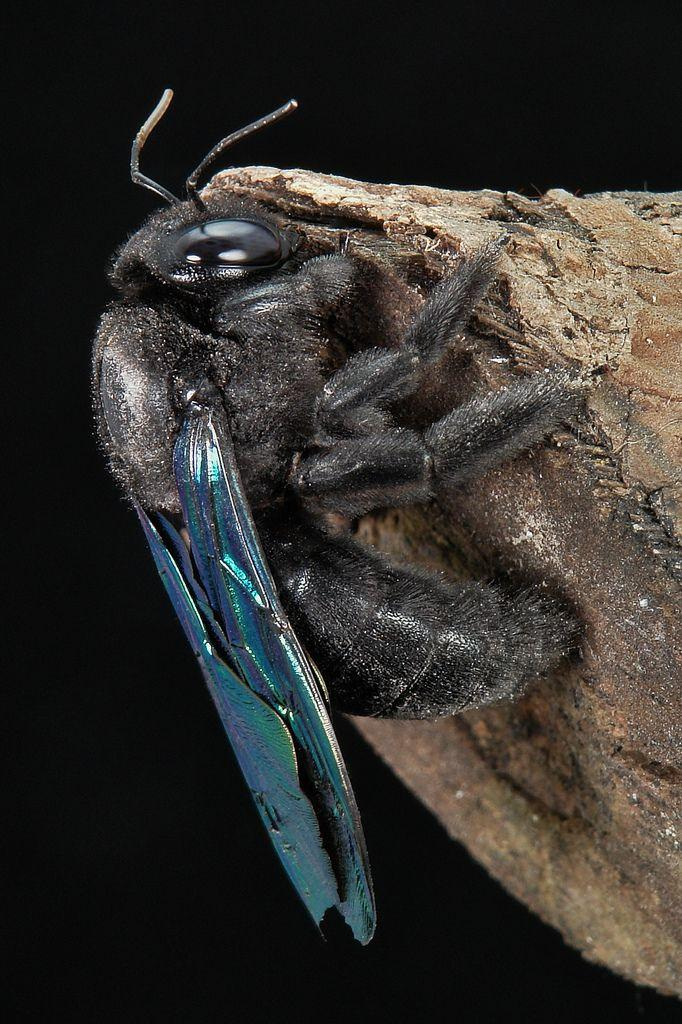Xylocopa: (89, 77, 591, 941)
